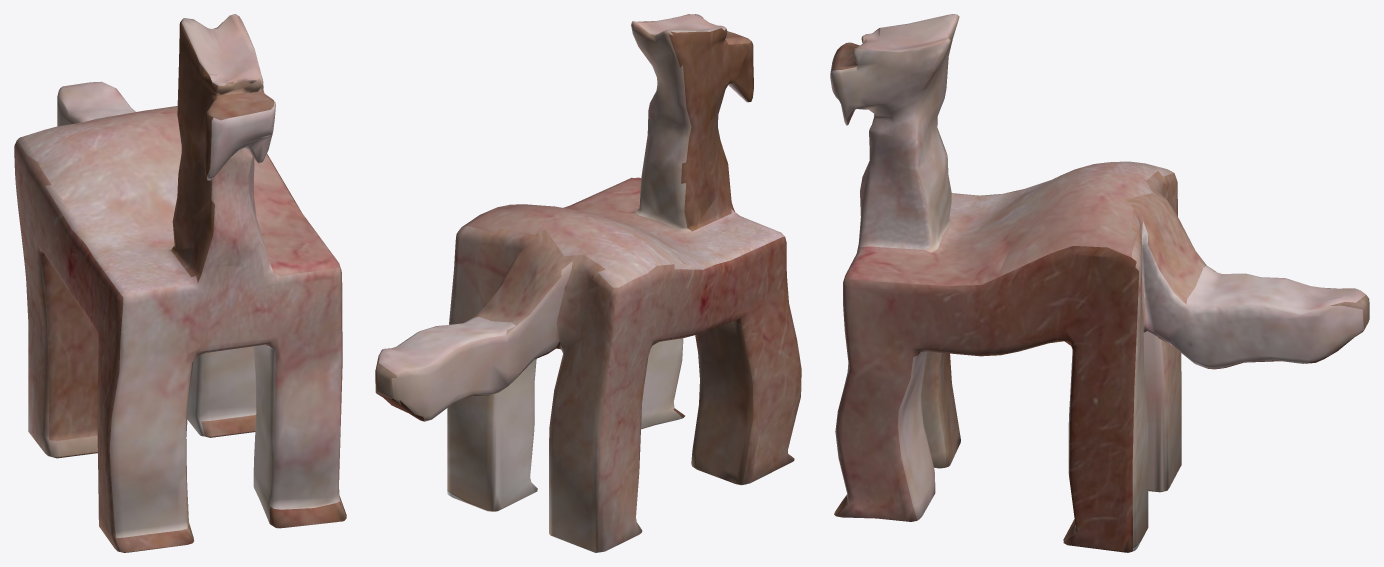
File: DOGGO LOW POLY EXPORT TEST 6.fbx
The picture shows the model from 3 angles, left to right: view 1: azimuth 30°, elevation 25°; view 2: azimuth 150°, elevation 25°; view 3: azimuth 270°, elevation 25°; orthographic projection. The views are drawn at different scales.
Parts seen in each view (by area): view 1: LOW POLY DOGGO.001; view 2: LOW POLY DOGGO.001; view 3: LOW POLY DOGGO.001.
Boxes of the visible parts, bbox=[...] form: LOW POLY DOGGO.001: bbox=[14, 14, 346, 552]; LOW POLY DOGGO.001: bbox=[375, 14, 801, 552]; LOW POLY DOGGO.001: bbox=[830, 14, 1369, 552].
Size of the model in its own units: 863 by 1501 by 1571.
1 material, 1 textured.
